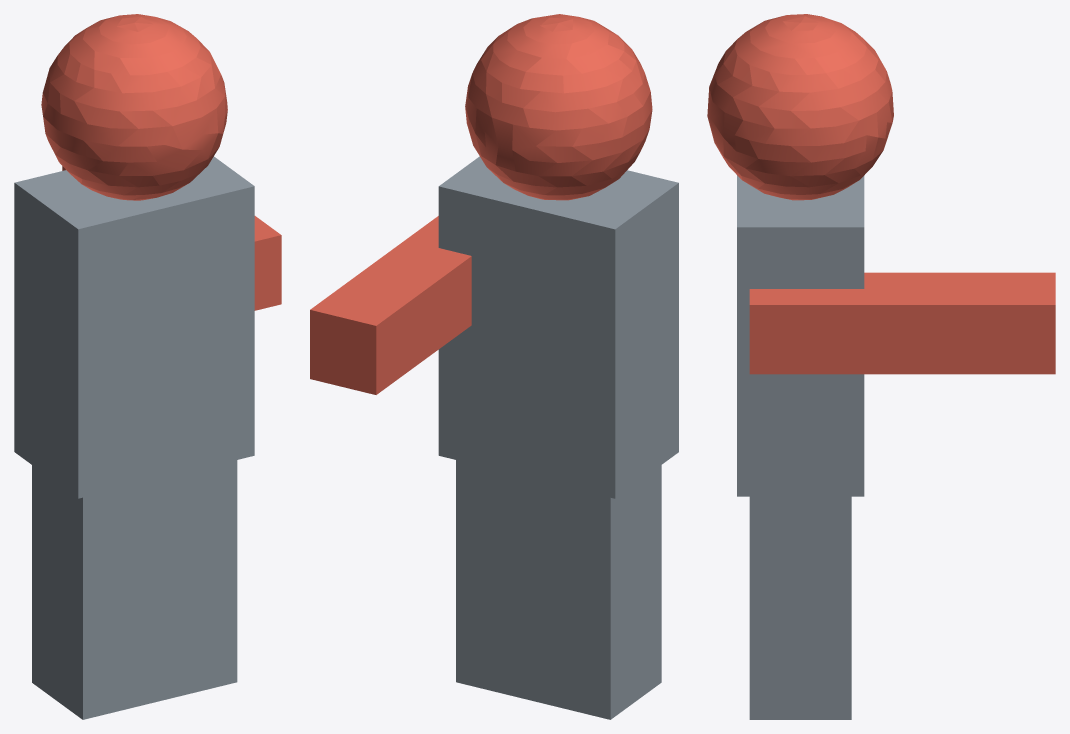
File: SU_MasterEngineer_LOD1.glb
3 renders of one model, left to right at view 1: azimuth 30°, elevation 25°; view 2: azimuth 150°, elevation 25°; view 3: azimuth 270°, elevation 25°, orthographic.
Parts seen in each view (by area): view 1: Head; view 2: Head; view 3: Head.
Boxes of the visible parts, left/top/right/bottom form: Head: left=14, top=14, right=281, bottom=719; Head: left=310, top=14, right=678, bottom=719; Head: left=707, top=14, right=1055, bottom=719.
Size of the model in its own units: 57 by 171 by 81.99.
